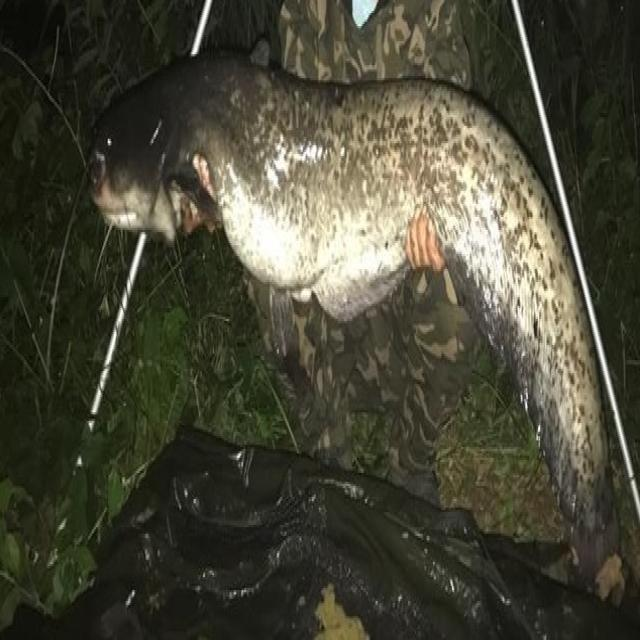Catfish: (51, 48, 627, 588)
